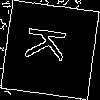K: (25, 25, 77, 64)
